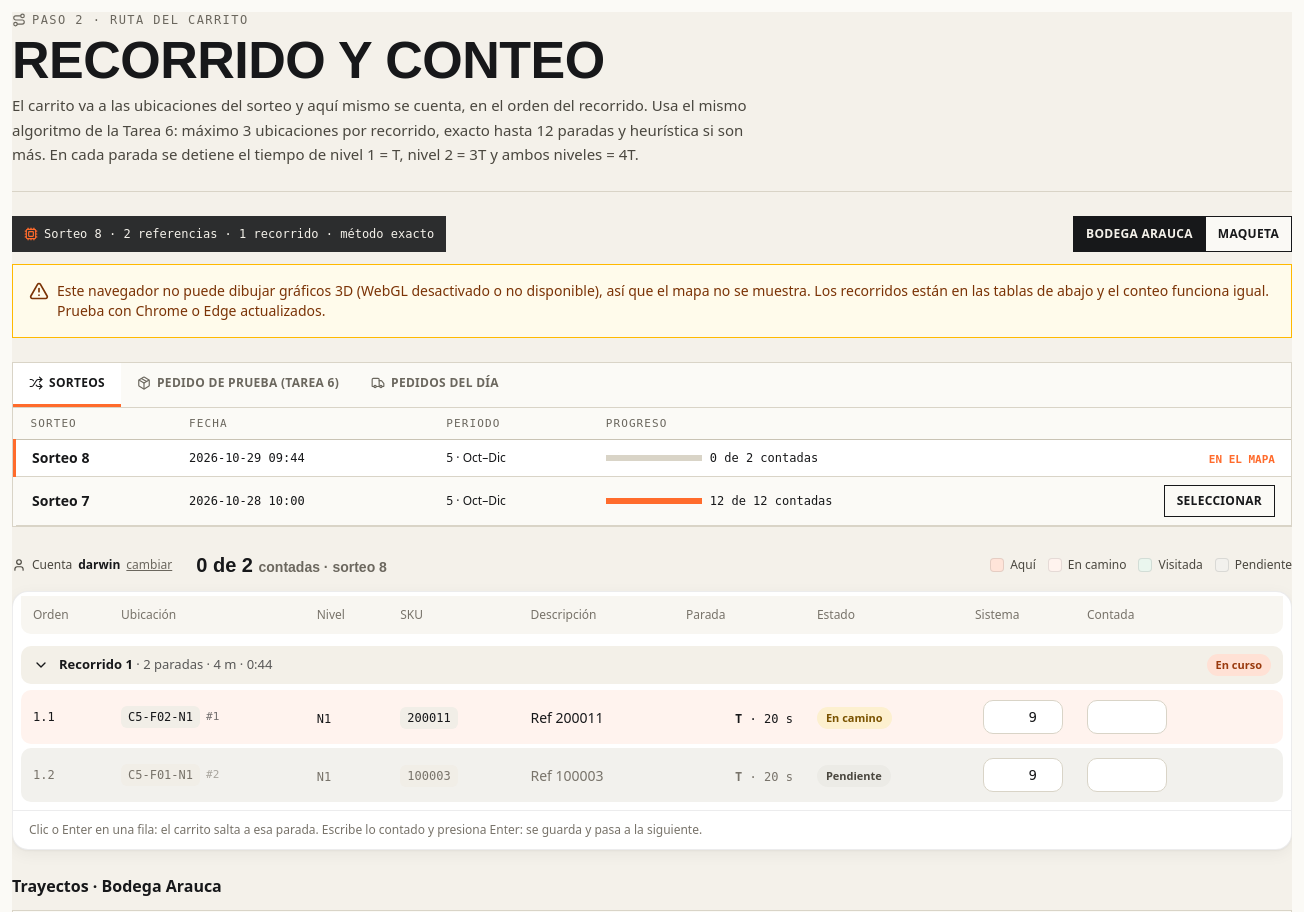
Test case: Paso 2: Recorrido y conteo › Enter guarda el conteo con el responsable y pasa el foco a la fila siguiente
The width and height of the screenshot is (1304, 912).
Type "7" into the number field named "Cantidad contada de" at (1127, 717), box [1087, 700, 1167, 734]
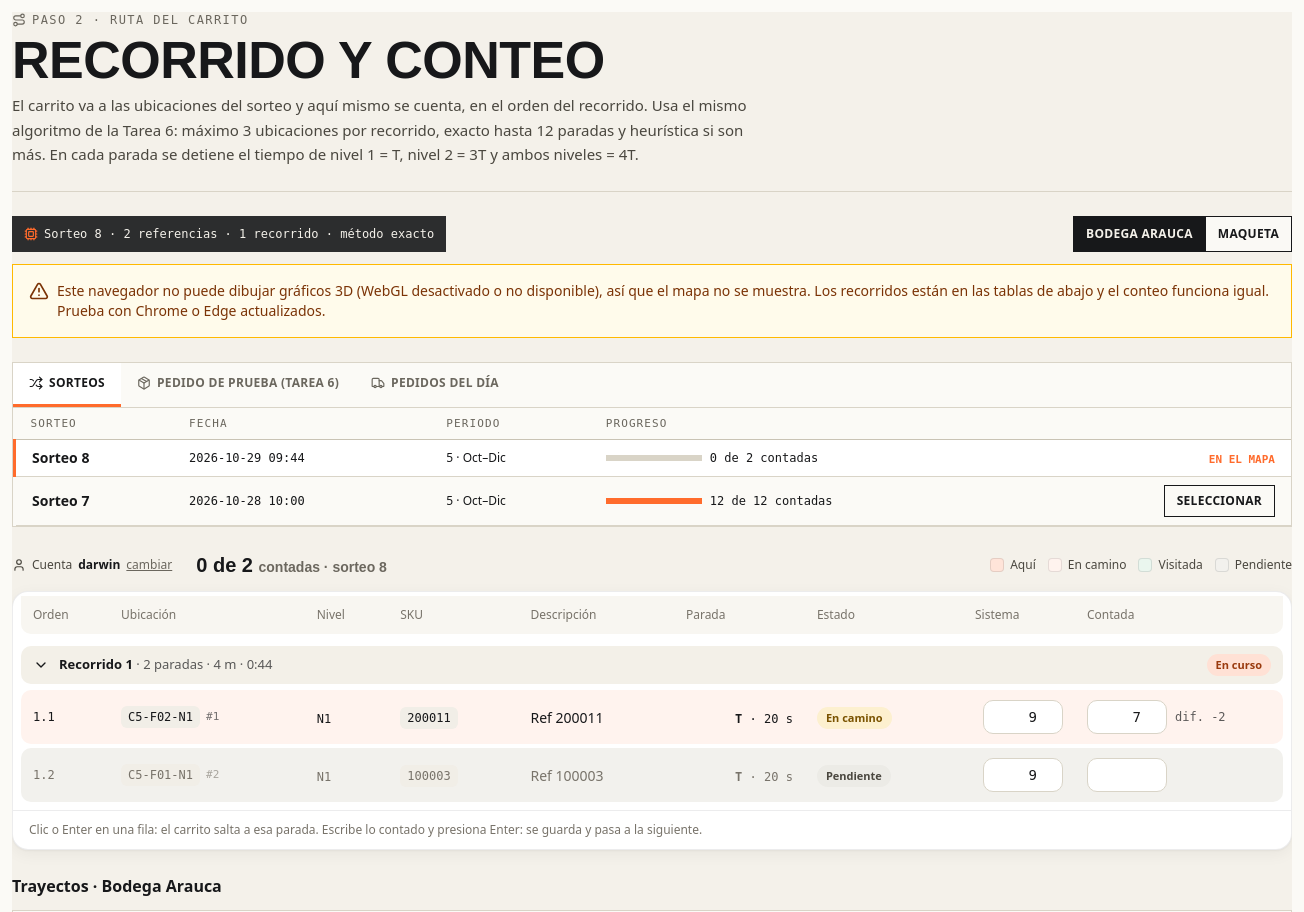
Press Enter in the number field named "Cantidad contada de", box [1087, 700, 1167, 734]
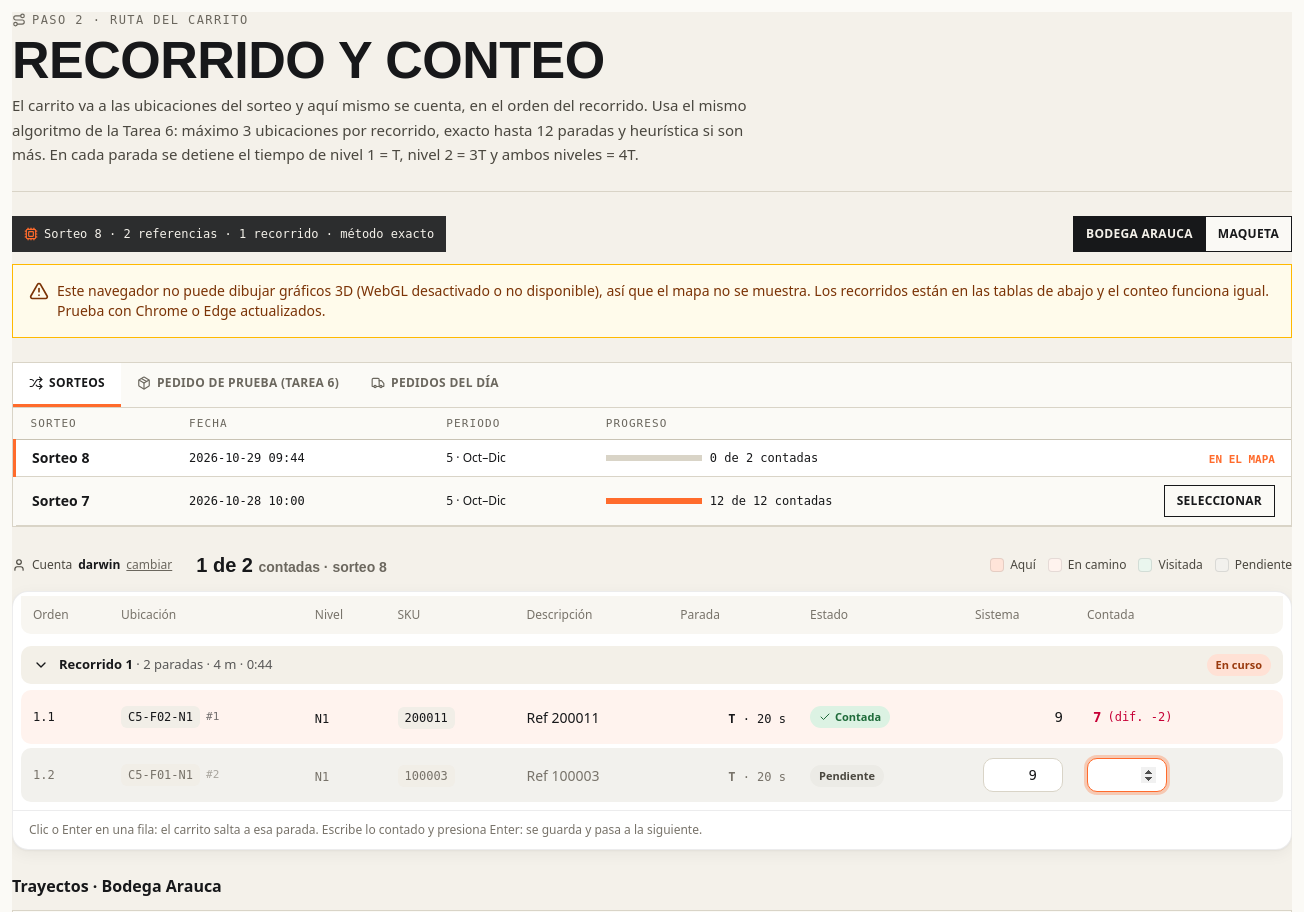
Check: the text "(dif. -2)" is shown, box [1107, 709, 1172, 725]
